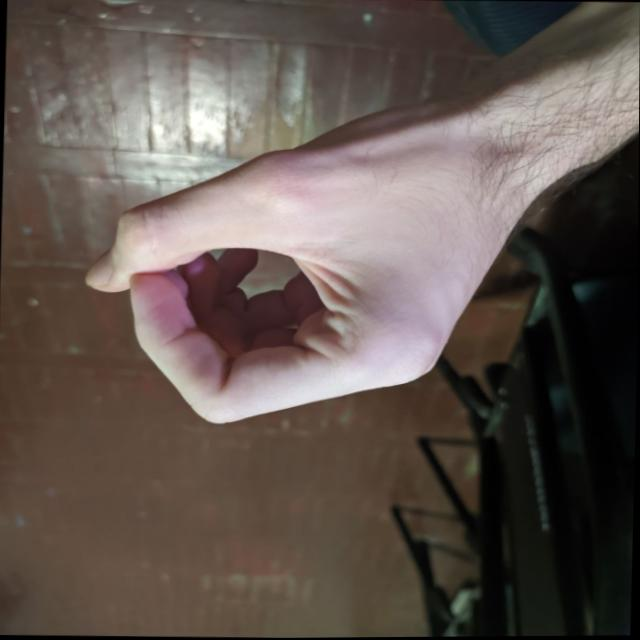e: (81, 135, 480, 454)
